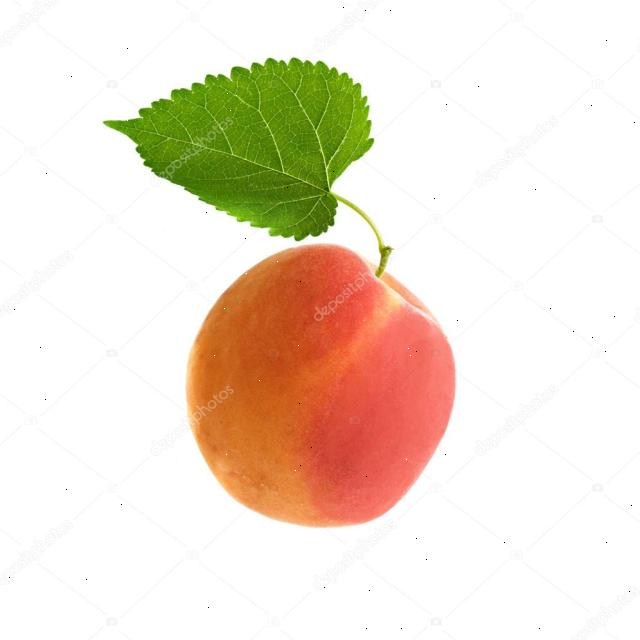kayisi: (183, 242, 461, 545)
kayisi yapragi: (92, 54, 373, 238)
